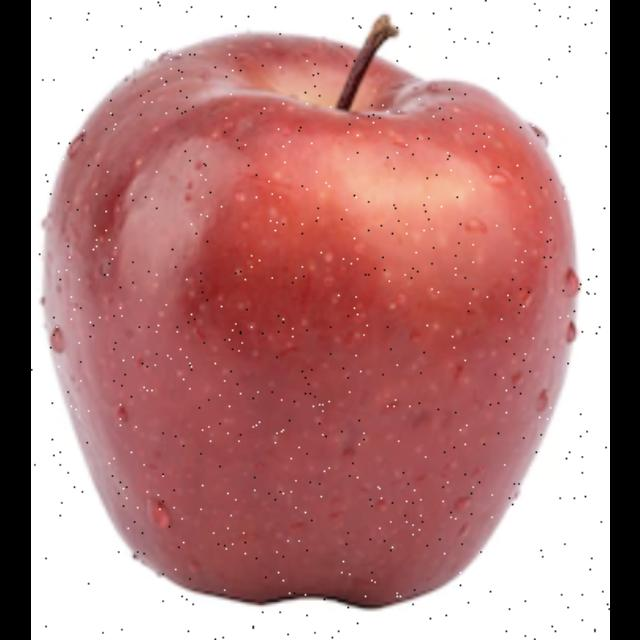Apel Segar: (40, 16, 583, 611)
